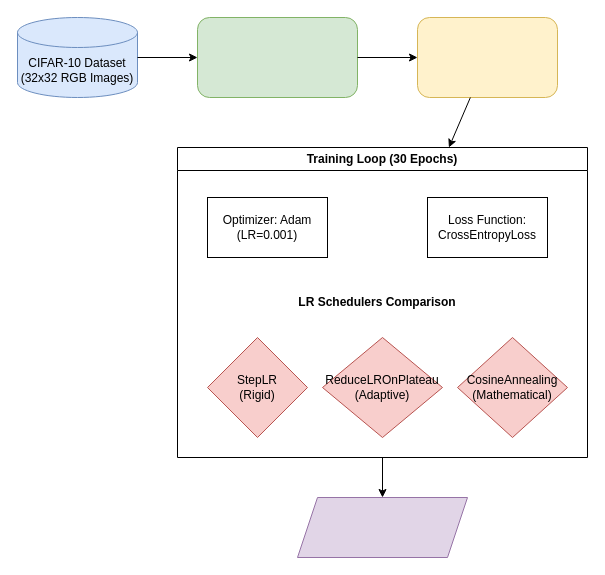
Image size: 605x575. Some labels were removed from this diagram. The centre of each missing label's shape, as x and y in pixels:
"Evaluation Metrics (Accuracy & Loss)" belongs at (382,527).
"Modified FC Layer (nn.Linear 512 -> 10)" belongs at (487,57).
"ResNet18 (Pretrained ImageNet)" belongs at (277,57).
